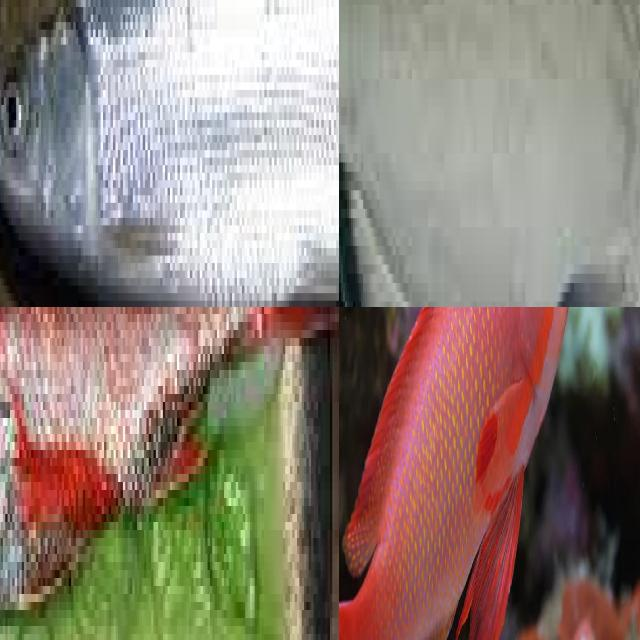fish: (0, 307, 339, 640), (0, 0, 339, 307), (339, 0, 640, 307), (339, 307, 596, 640)
